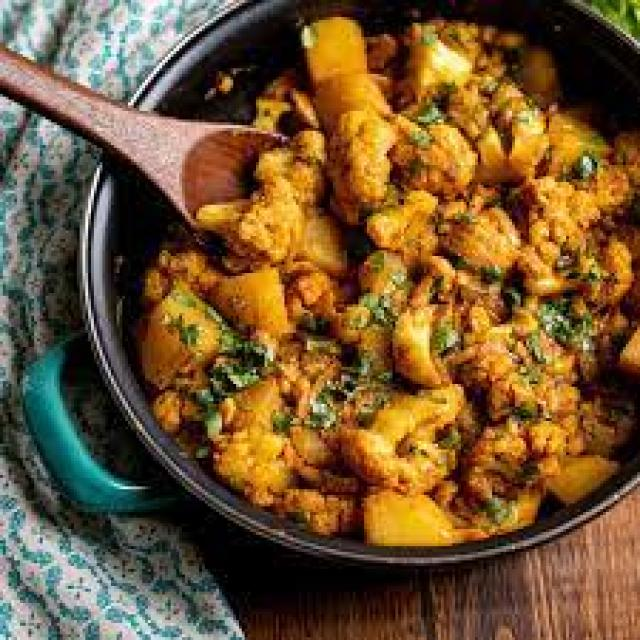Aloo Gobi: (129, 247, 626, 505)
